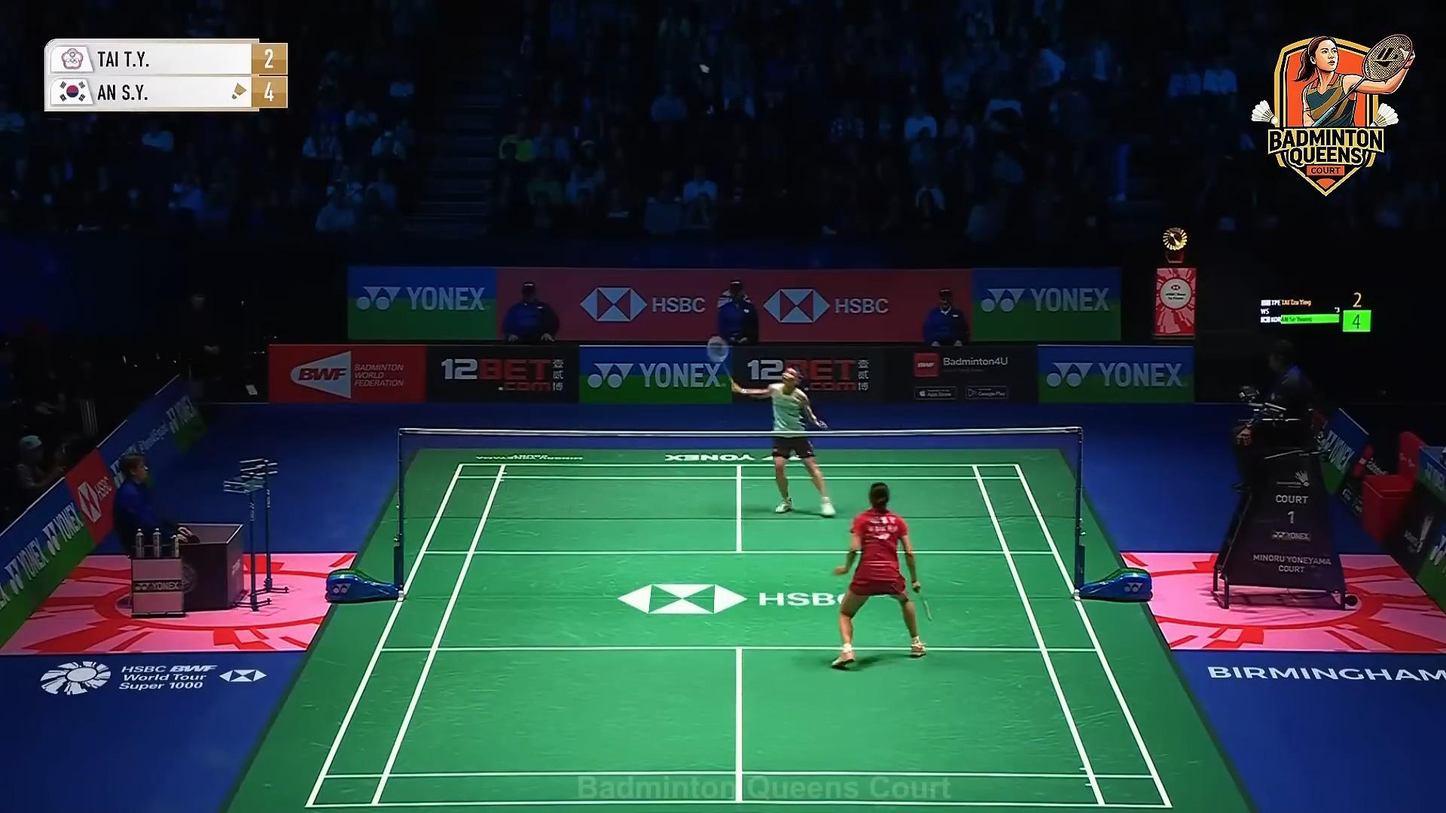player: (831, 481, 925, 669), (730, 361, 836, 518)
shuttlecock: (699, 62, 712, 75)
